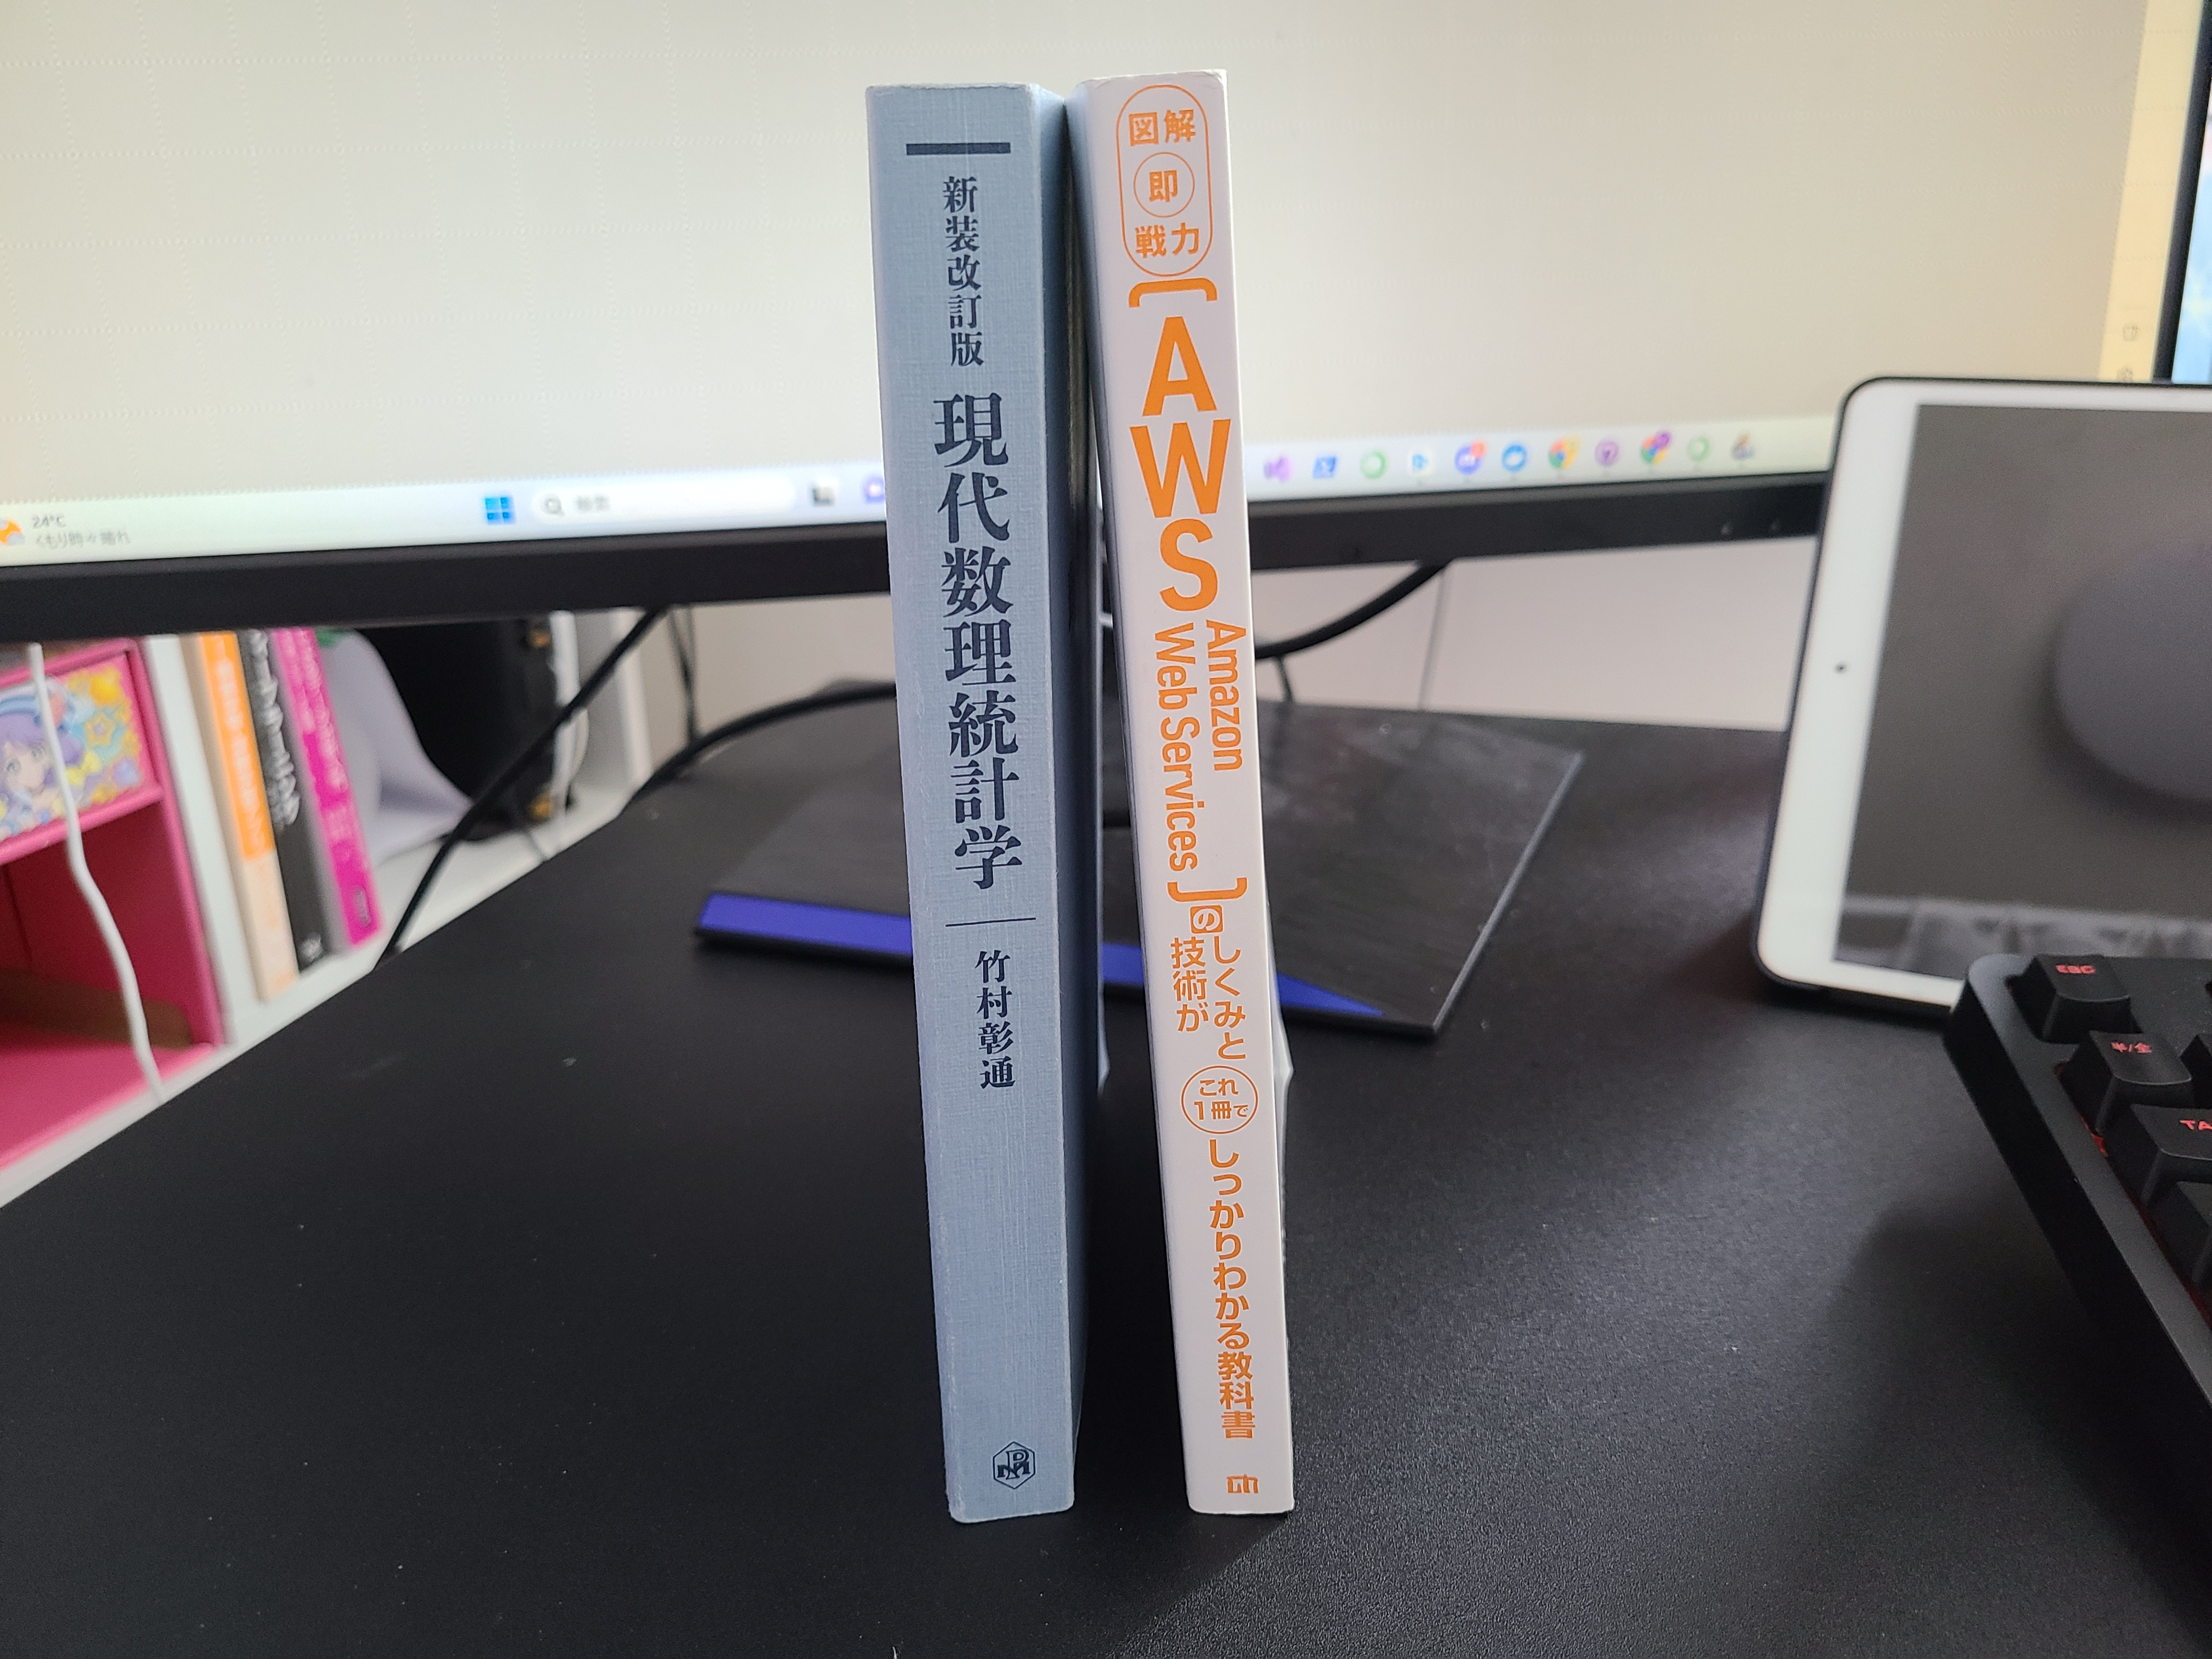book: (1064, 68, 1315, 1532), (862, 68, 1071, 1523)
